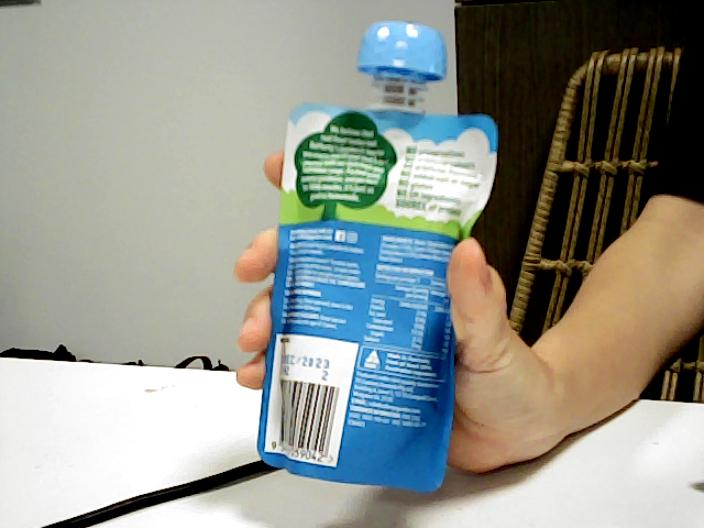Babyfood_100-199g_NonHalal_NonHealthy: (274, 121, 468, 467)
